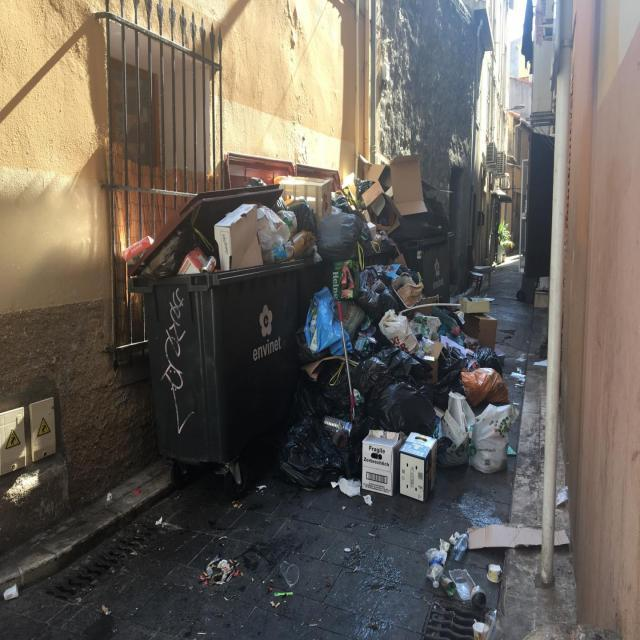high trash: (178, 158, 518, 499)
less trash: (426, 524, 541, 611), (474, 621, 490, 639), (554, 529, 570, 546), (488, 564, 502, 583)
